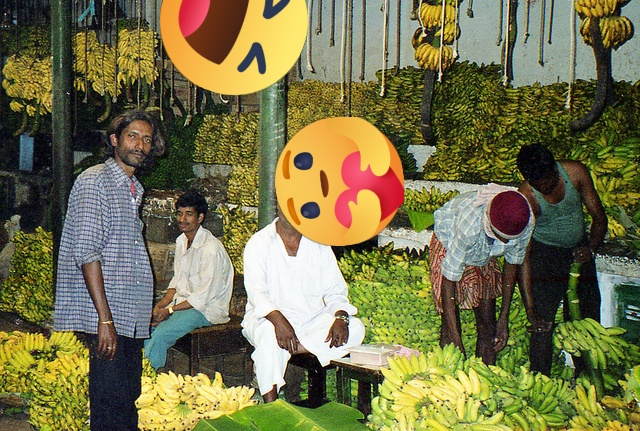care: (275, 117, 404, 246)
haha: (160, 0, 308, 95)
